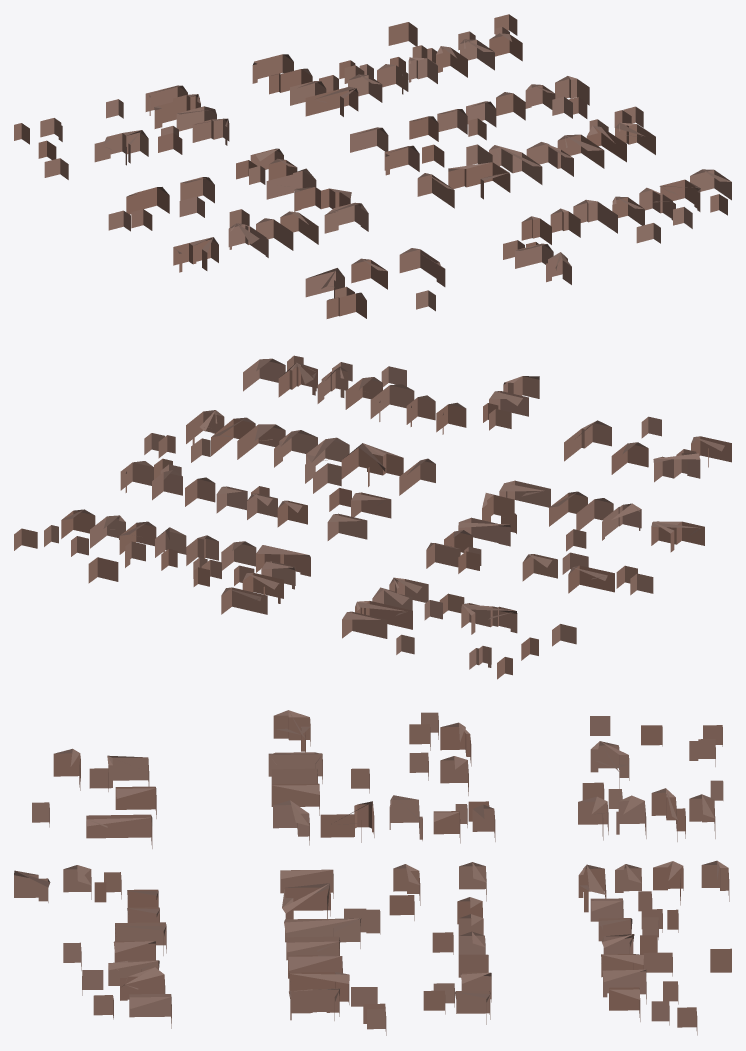
The model's file is c_1644_17826_buildings_residential.glb.
3 renders of one model, top to bottom at view 1: azimuth 30°, elevation 25°; view 2: azimuth 150°, elevation 25°; view 3: azimuth 270°, elevation 25°, orthographic. The views are drawn at different scales.
Parts seen in each view (by area): view 1: geometry_0; view 2: geometry_0; view 3: geometry_0.
Part boxes in pixels (left/top/right/bottom): geometry_0: left=14, top=14, right=731, bottom=318; geometry_0: left=14, top=355, right=731, bottom=679; geometry_0: left=14, top=710, right=731, bottom=1035.
Size of the model in its own units: 262 by 10.94 by 261.
